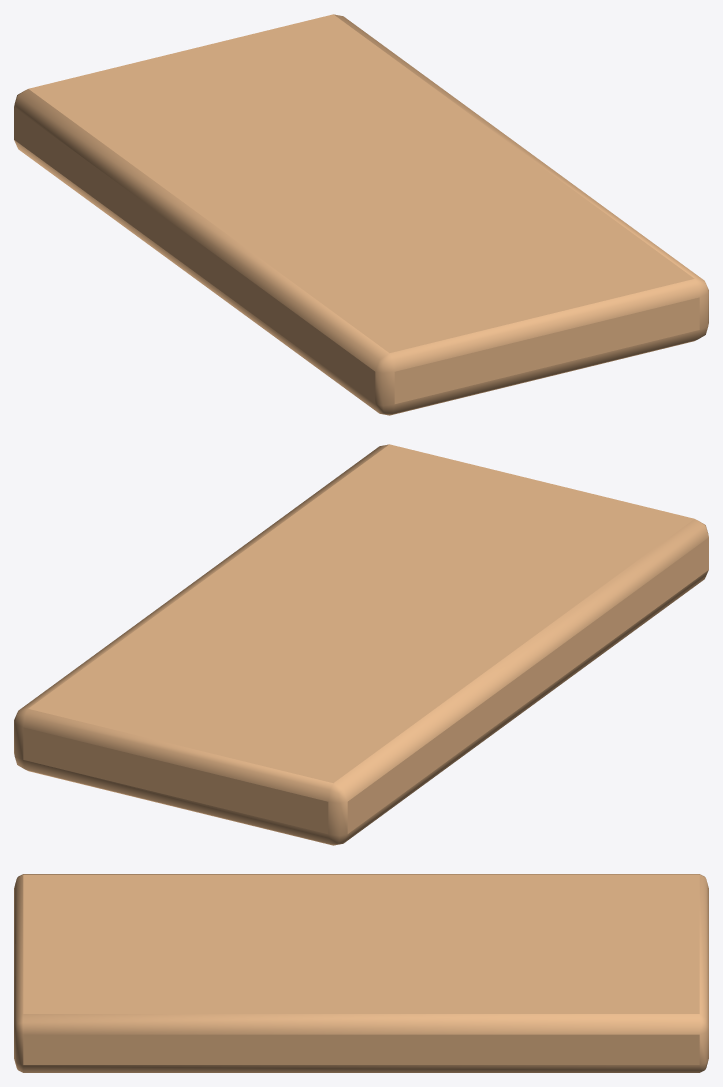
The model's file is UpperShelf.fbx.
3 renders of one model, top to bottom at view 1: azimuth 30°, elevation 25°; view 2: azimuth 150°, elevation 25°; view 3: azimuth 270°, elevation 25°, orthographic. The views are drawn at different scales.
Visible parts, largest first — view 1: Shelf; view 2: Shelf; view 3: Shelf.
Part boxes in pixels (x1,y1,x2,y2): Shelf: (14, 14, 708, 415); Shelf: (14, 444, 708, 845); Shelf: (14, 874, 708, 1072).
Size of the model in its own units: 200 by 35.74 by 385.
